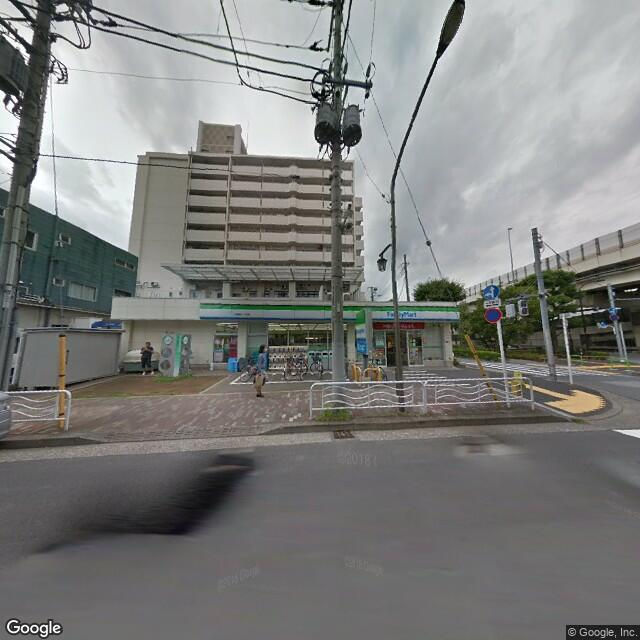family_mart: (198, 298, 462, 325)
